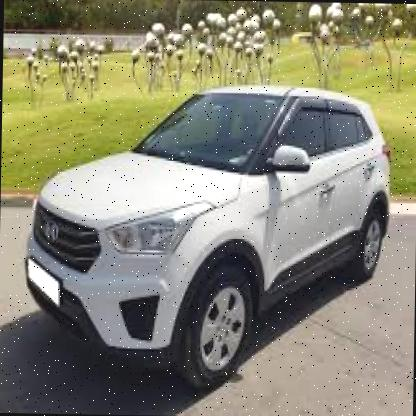car: (17, 74, 397, 389)
